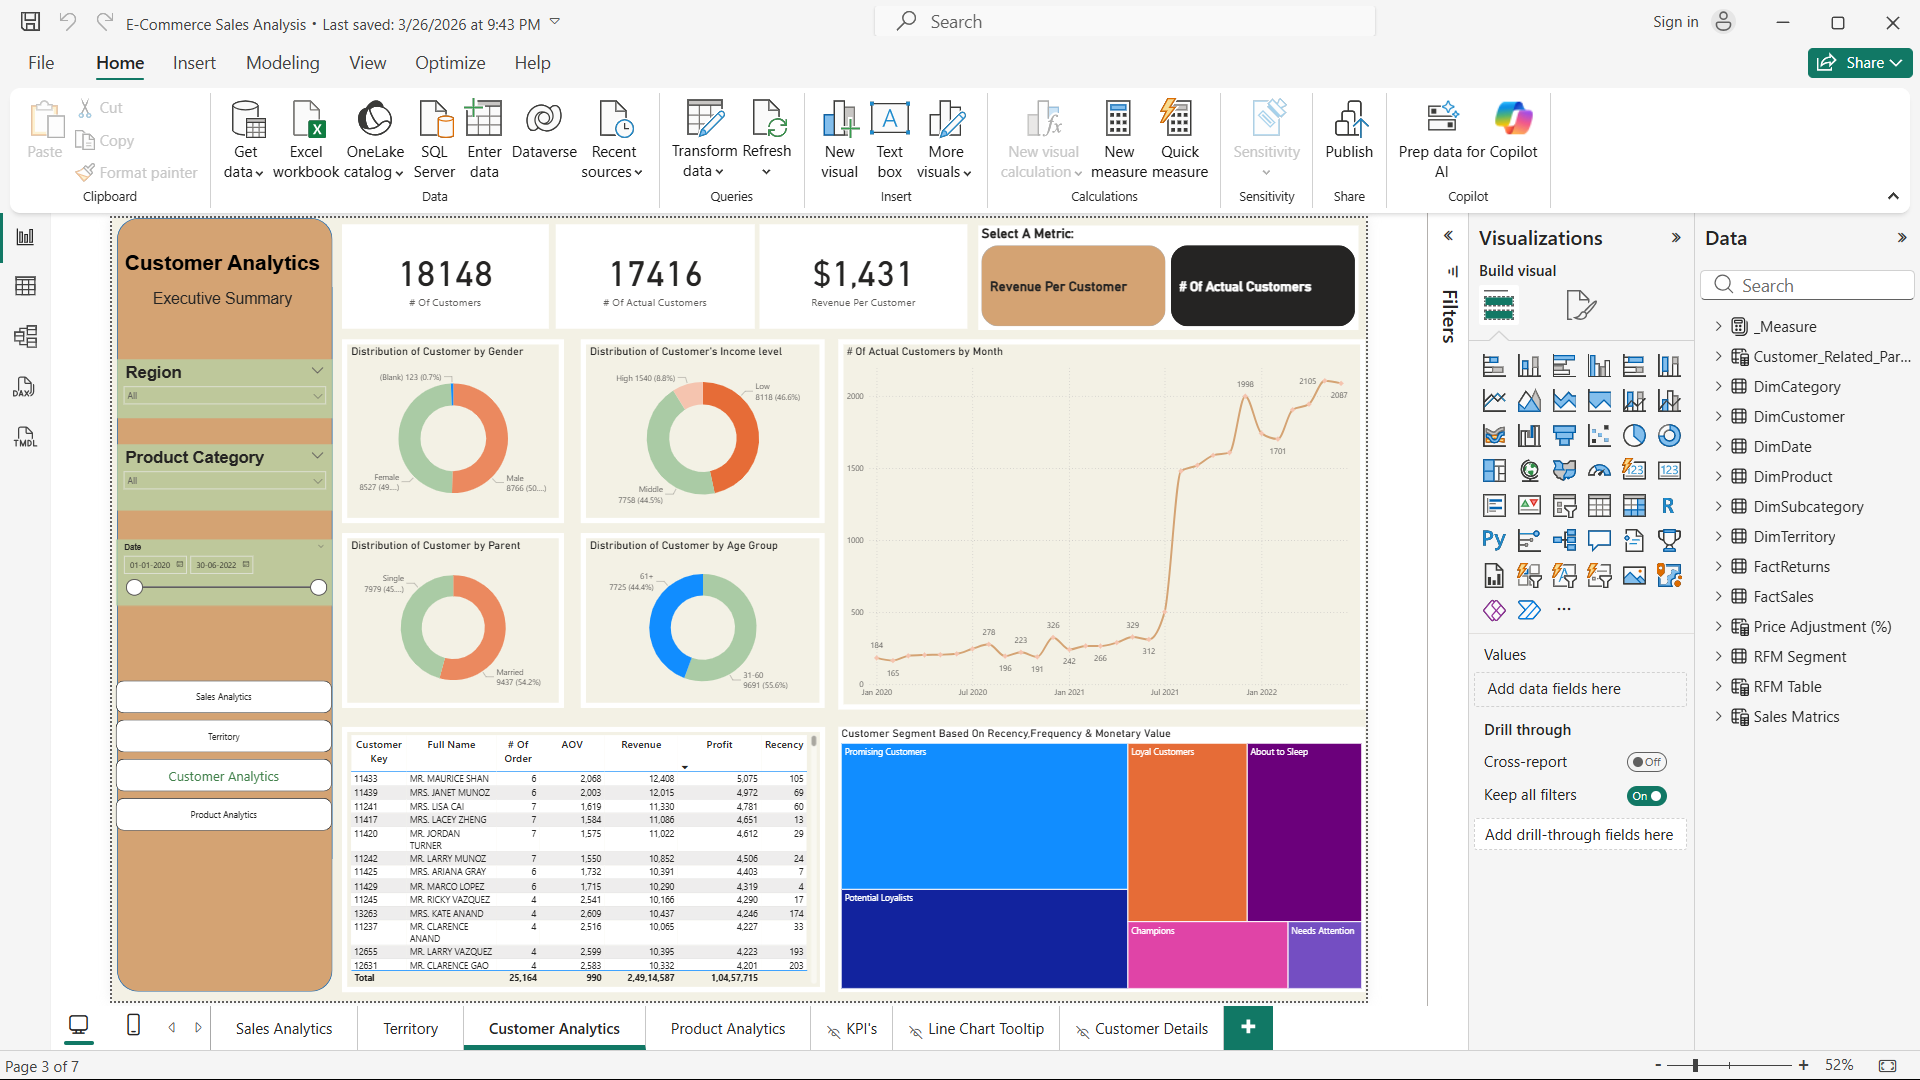

The dashboard page shown, as its layout file describes it:
{"tool":"powerbi","page":{"name":"Customer Analytics","canvas":[1920,1200],"ordinal":2},"visuals":[{"type":"card","fields":{"Values":["_Measure.# Of Actual Customers"]},"box":[680,10,305,160],"z":0},{"type":"card","fields":{"Values":["_Measure.Revenue Per Customer"]},"box":[991.7,10,318.3,160],"z":1000},{"type":"shape","box":[8.3,0,330,1185],"z":2000},{"type":"textbox","box":[0,45,338.3,60],"z":3000},{"type":"textbox","box":[0,105,338.3,65],"z":4000},{"type":"card","fields":{"Values":["_Measure.# Of Customers"]},"box":[351.7,10,316.7,160],"z":5000},{"type":"slicer","fields":{"Values":["DimTerritory.Region"]},"box":[8.3,216.7,330,90],"z":6000},{"type":"slicer","fields":{"Values":["DimCategory.CategoryName"]},"box":[8.3,346.7,330,101.7],"z":7000},{"type":"slicer","fields":{"Values":["DimDate.Date"]},"box":[6.7,491.7,331.7,101.7],"z":8000},{"type":"pageNavigator","box":[6.7,708.3,331.7,233.3],"z":9000},{"type":"donutChart","title":"Distribution of Customer by Gender","fields":{"Category":["DimCustomer.Gender_Cleaned"],"Y":["_Measure.# Of Actual Customers"]},"box":[351.7,185,340,281.7],"z":10000},{"type":"donutChart","title":"Distribution of Customer''s Income level","fields":{"Y":["_Measure.# Of Actual Customers"],"Category":["DimCustomer.Income Level"]},"box":[718.3,185,373.3,281.7],"z":11000},{"type":"donutChart","title":"Distribution of Customer by Parent","fields":{"Y":["_Measure.# Of Actual Customers"],"Category":["DimCustomer.MaritalStatus"]},"box":[351.7,483.3,340,268.3],"z":12000},{"type":"donutChart","title":"Distribution of Customer by Age Group","fields":{"Y":["_Measure.# Of Actual Customers"],"Series":["DimCustomer.Age Group"]},"box":[718.3,483.3,373.3,268.3],"z":13000},{"type":"advancedSlicerVisual","title":"Select A Metric:","fields":{"Values":["Customer_Related_Parameters.Customer_Related_Parameters"]},"box":[1325.9,10.6,582,160.3],"z":14000},{"type":"lineChart","fields":{"Y":["_Measure.# Of Actual Customers"],"Category":["DimDate.Start of the Month"]},"box":[1112.2,185.4,807.3,566.9],"z":15000},{"type":"tableEx","fields":{"Values":["DimCustomer.CustomerKey","DimCustomer.Full Name","_Measure.# Of Order","_Measure.AOV","_Measure.Revenue","_Measure.Profit","_Measure.Recency"]},"box":[351.7,778.3,740,406.7],"z":16000},{"type":"treemap","title":"Customer Segment Based On Recency,Frequency & Monetary Value","fields":{"Group":["RFM Segment.Customer Segment"],"Values":["Count(RFM Table.CustomerKey)"]},"box":[1112,779,807,406],"z":17000}]}

Visuals, with their boxes on the page's 1920x1200 design canvas (x1, y1, x2, y2). These are canvas units, not pixel positions in the 1920x1080 screenshot, which may show the page scaled, cropped or inside an application window:
card - _Measure.# Of Actual Customers: left=680, top=10, right=985, bottom=170
card - _Measure.Revenue Per Customer: left=992, top=10, right=1310, bottom=170
shape: left=8, top=0, right=338, bottom=1185
textbox: left=0, top=45, right=338, bottom=105
textbox: left=0, top=105, right=338, bottom=170
card - _Measure.# Of Customers: left=352, top=10, right=668, bottom=170
slicer - DimTerritory.Region: left=8, top=217, right=338, bottom=307
slicer - DimCategory.CategoryName: left=8, top=347, right=338, bottom=448
slicer - DimDate.Date: left=7, top=492, right=338, bottom=593
pageNavigator: left=7, top=708, right=338, bottom=942
"Distribution of Customer by Gender" donutChart: left=352, top=185, right=692, bottom=467
"Distribution of Customer''s Income level" donutChart: left=718, top=185, right=1092, bottom=467
"Distribution of Customer by Parent" donutChart: left=352, top=483, right=692, bottom=752
"Distribution of Customer by Age Group" donutChart: left=718, top=483, right=1092, bottom=752
"Select A Metric:" advancedSlicerVisual: left=1326, top=11, right=1908, bottom=171
lineChart - _Measure.# Of Actual Customers x DimDate.Start of the Month: left=1112, top=185, right=1920, bottom=752
tableEx - DimCustomer.CustomerKey x DimCustomer.Full Name: left=352, top=778, right=1092, bottom=1185
"Customer Segment Based On Recency,Frequency & Monetary Value" treemap: left=1112, top=779, right=1919, bottom=1185
